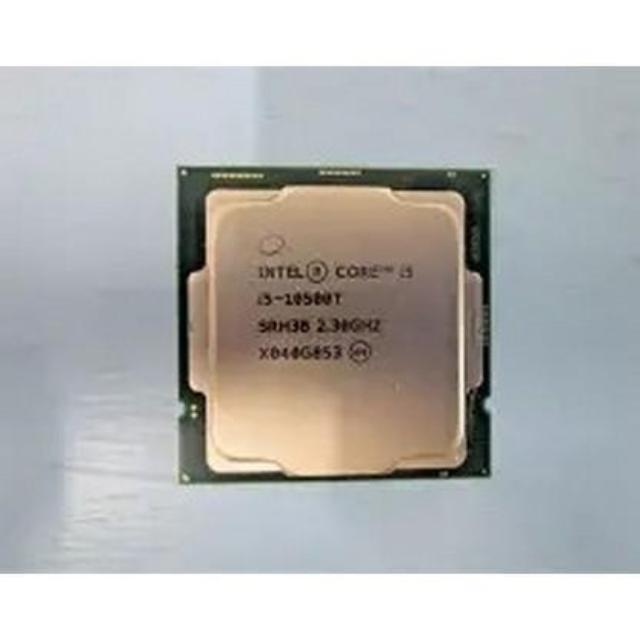CPU: (178, 170, 488, 478)
